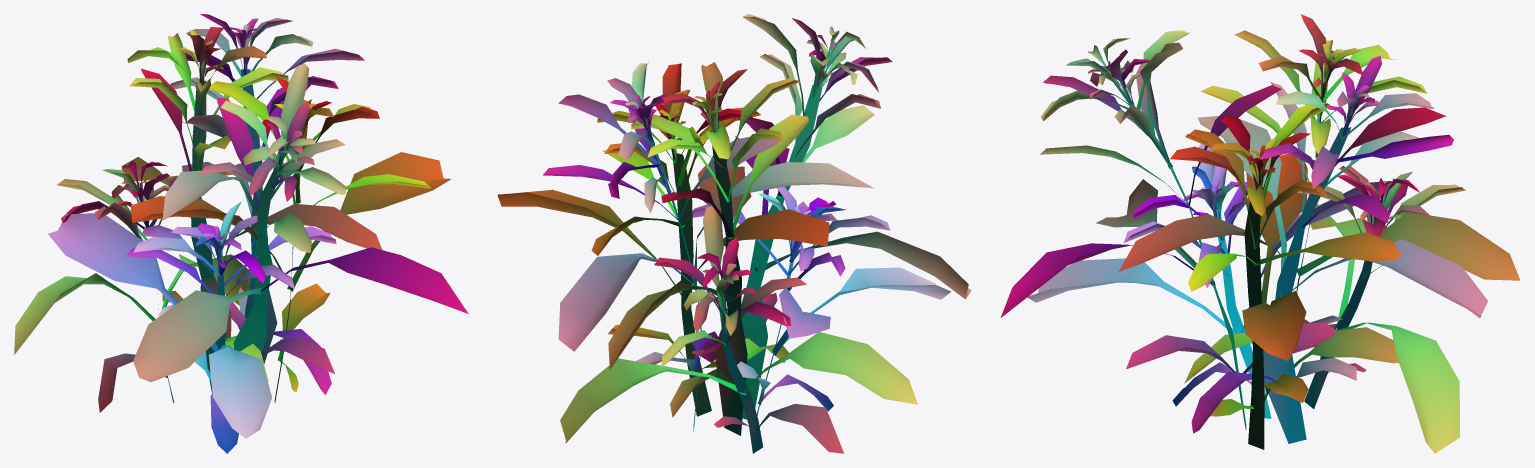
File: Sage_ve3gbfoja_Mid_ve3gbfoja_VarD_LOD1.fbx
3 renders of one model, left to right at view 1: azimuth 30°, elevation 25°; view 2: azimuth 150°, elevation 25°; view 3: azimuth 270°, elevation 25°, orthographic. The views are drawn at different scales.
Parts seen in each view (by area): view 1: _etnt_VarD_LOD3; view 2: _etnt_VarD_LOD3; view 3: _etnt_VarD_LOD3.
Boxes of the visible parts, <box> form: _etnt_VarD_LOD3: <box>14,14,468,453</box>; _etnt_VarD_LOD3: <box>497,14,971,453</box>; _etnt_VarD_LOD3: <box>1000,14,1520,453</box>.
Size of the model in its own units: 70.75 by 60.03 by 70.03.
